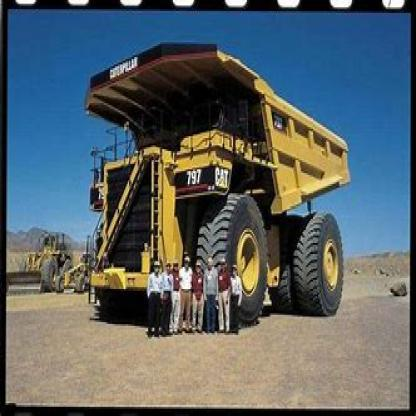dump_truck: (74, 35, 360, 326)
